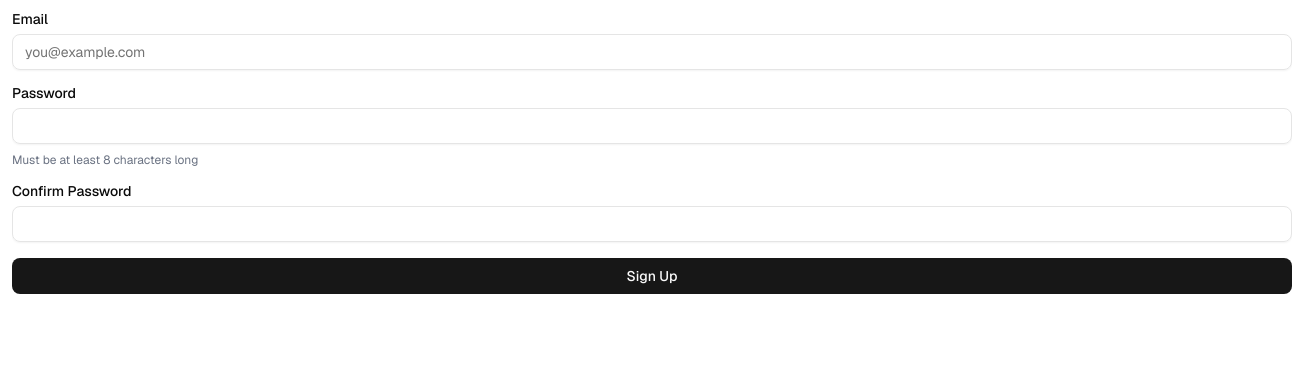
Test case: shows fallback error message when result has no error string
In the field labelled "Email": [652, 52] box [12, 34, 1292, 70], type "a@b.com"
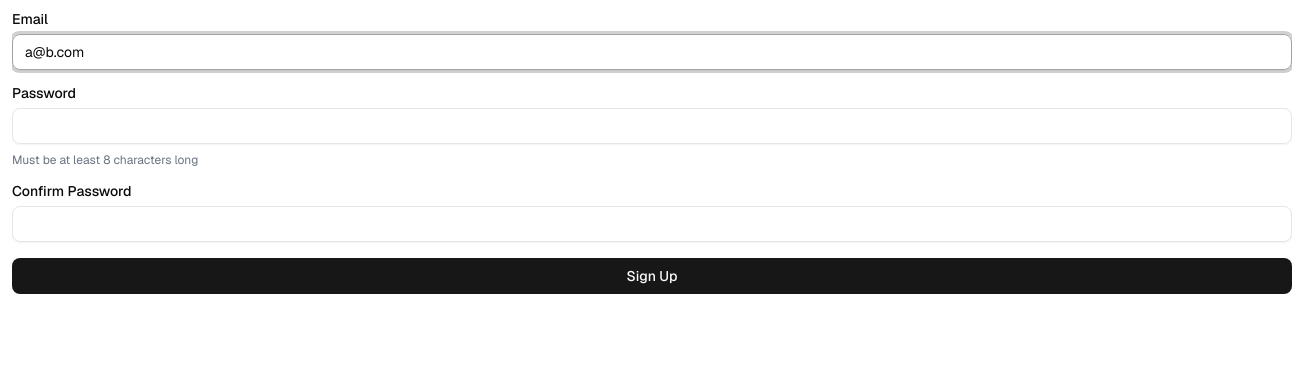
In the password field labelled "Password": [652, 126] box [12, 108, 1292, 144], type "pass12345"
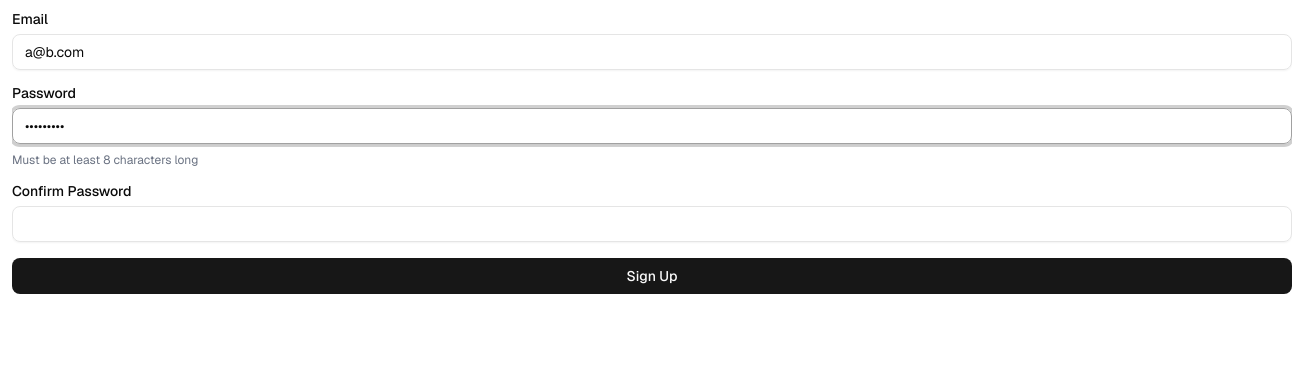
In the password field labelled "Confirm Password": [652, 224] box [12, 206, 1292, 242], type "pass12345"
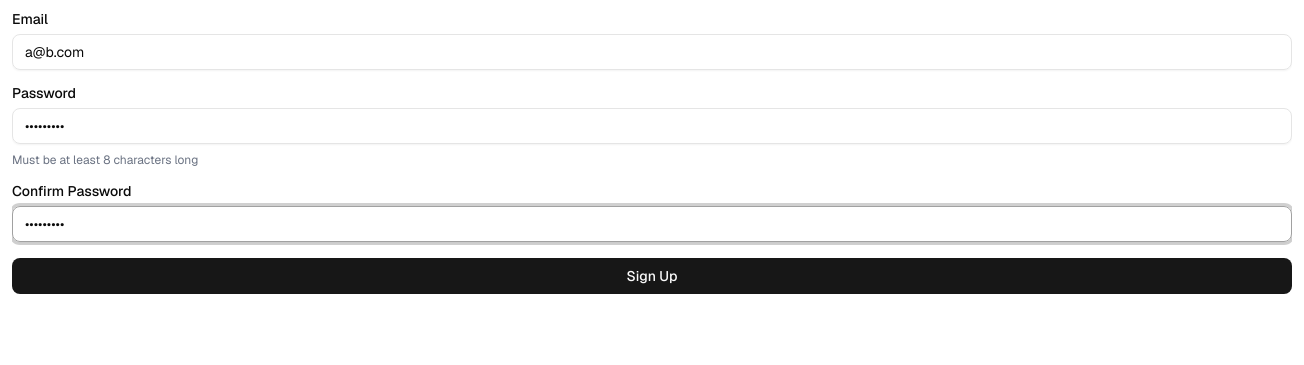
Submit the form
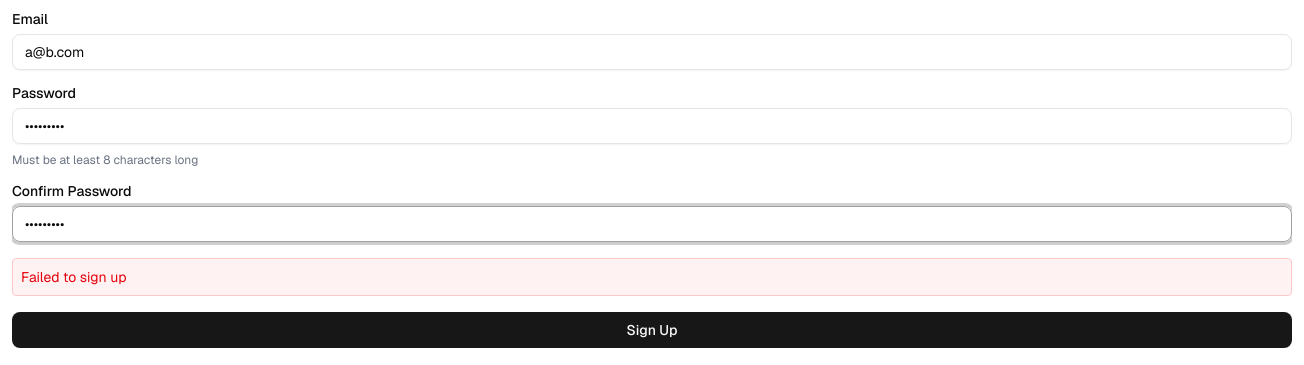
Expected: the text "Failed to sign up" is shown, [12, 258, 1292, 296]
